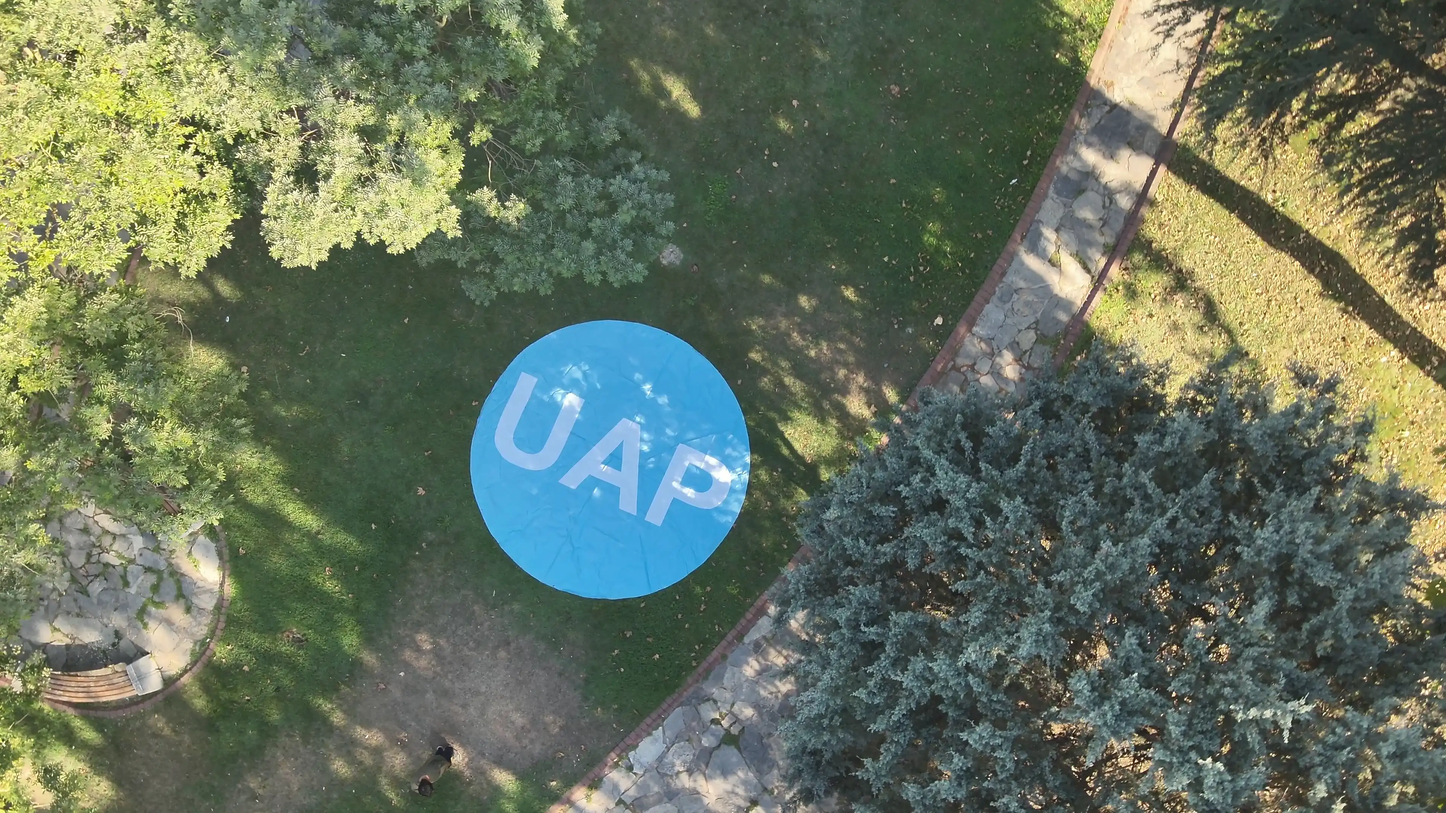UAP: (468, 319, 752, 603)
